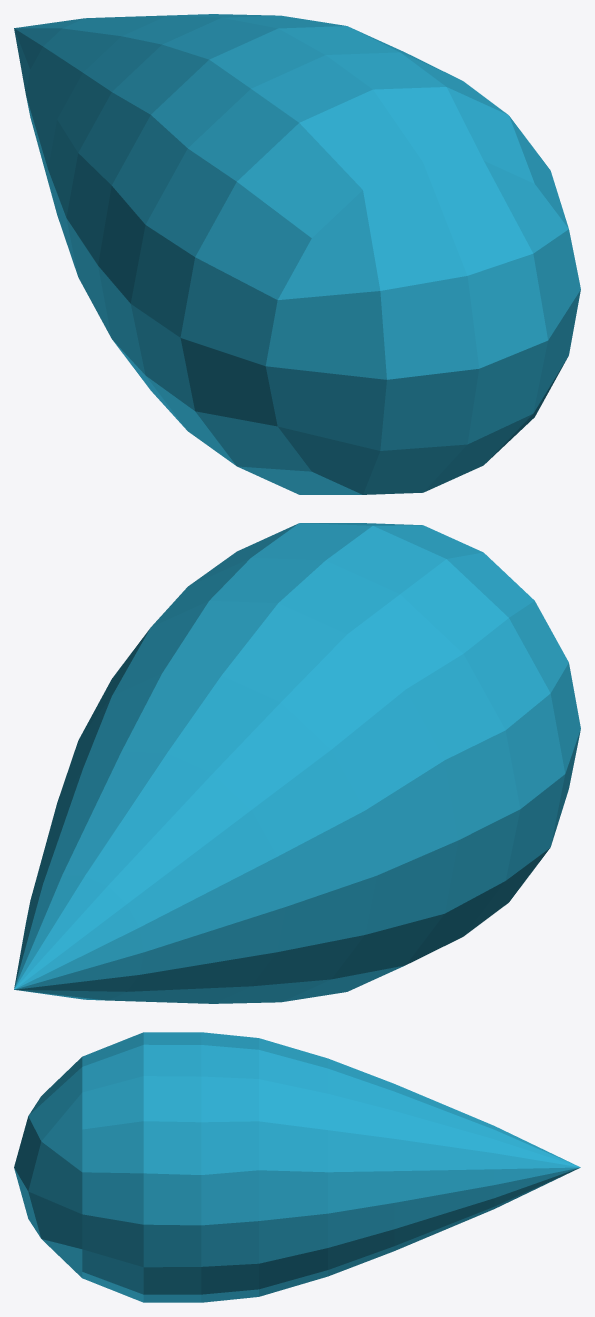
File: water.fbx
3 renders of one model, top to bottom at view 1: azimuth 30°, elevation 25°; view 2: azimuth 150°, elevation 25°; view 3: azimuth 270°, elevation 25°, orthographic. The views are drawn at different scales.
Parts seen in each view (by area): view 1: water; view 2: water; view 3: water.
Part boxes in pixels (bbox=[...]): water: bbox=[14, 14, 580, 494]; water: bbox=[14, 523, 580, 1003]; water: bbox=[14, 1032, 580, 1302].
Size of the model in its own units: 168 by 81.19 by 80.16.
